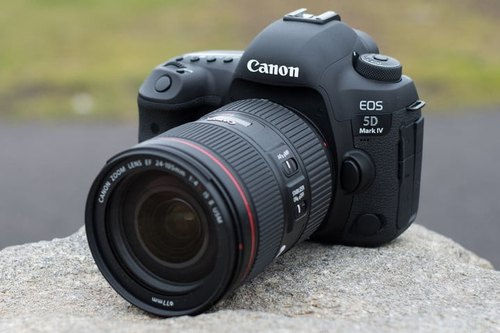camera: (90, 10, 422, 311)
